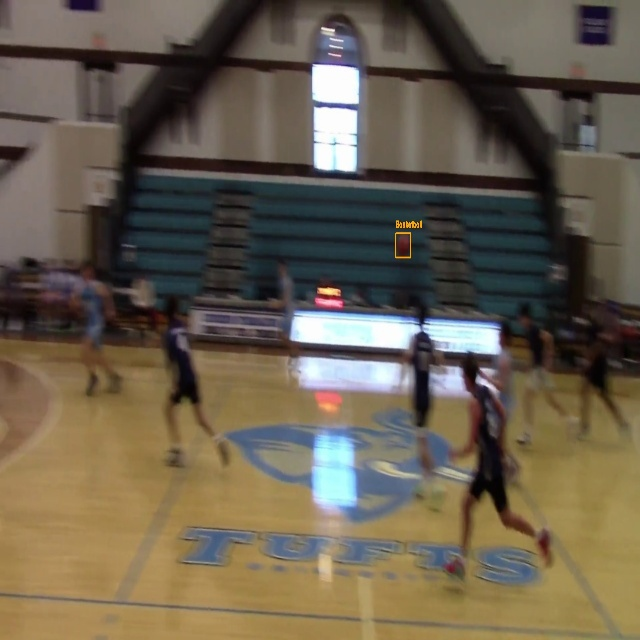Basketball: (396, 233, 410, 257)
